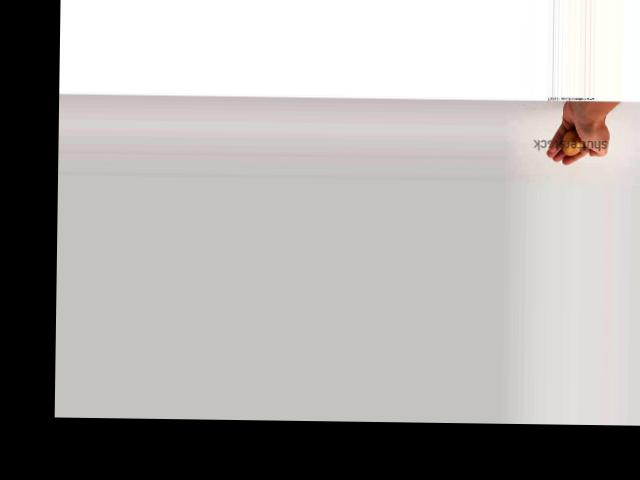egg: (561, 129, 583, 155)
